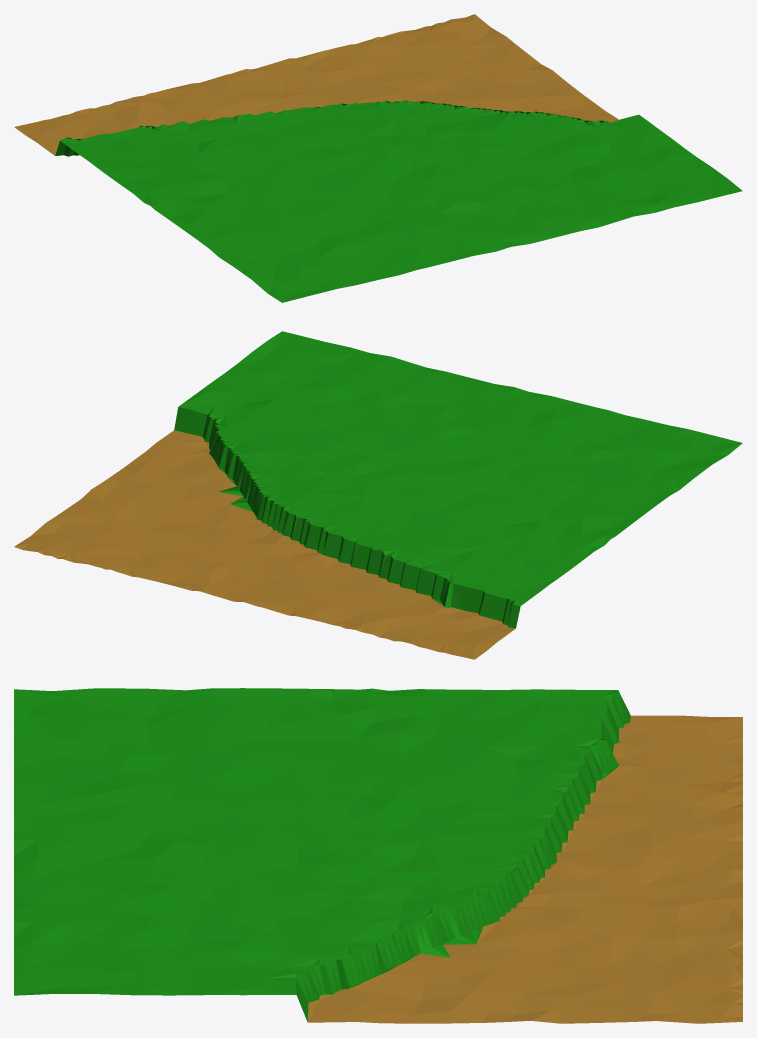
The picture shows the model from 3 angles, top to bottom: view 1: azimuth 30°, elevation 25°; view 2: azimuth 150°, elevation 25°; view 3: azimuth 270°, elevation 25°; orthographic projection. The views are drawn at different scales.
Parts seen in each view (by area): view 1: Plane; view 2: Plane; view 3: Plane.
Part boxes in pixels (bbox=[...]): Plane: bbox=[14, 14, 742, 302]; Plane: bbox=[14, 331, 742, 659]; Plane: bbox=[14, 688, 742, 1023].
Bounding box in the file's own units: 6607 × 313 × 6662.
